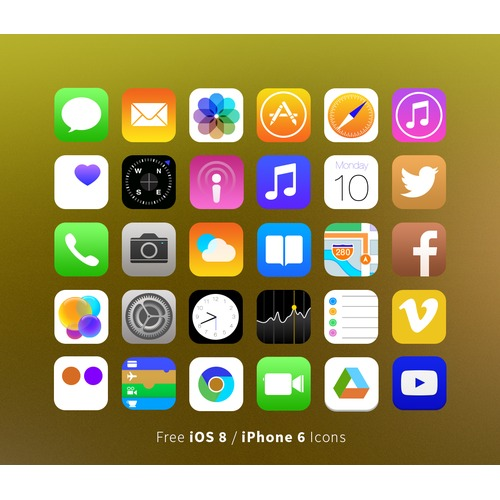calendar: (323, 153, 379, 209)
camera: (122, 221, 176, 276)
clock: (189, 287, 243, 345)
mail: (121, 88, 176, 143)
message: (52, 86, 109, 140)
phone: (54, 220, 109, 276)
